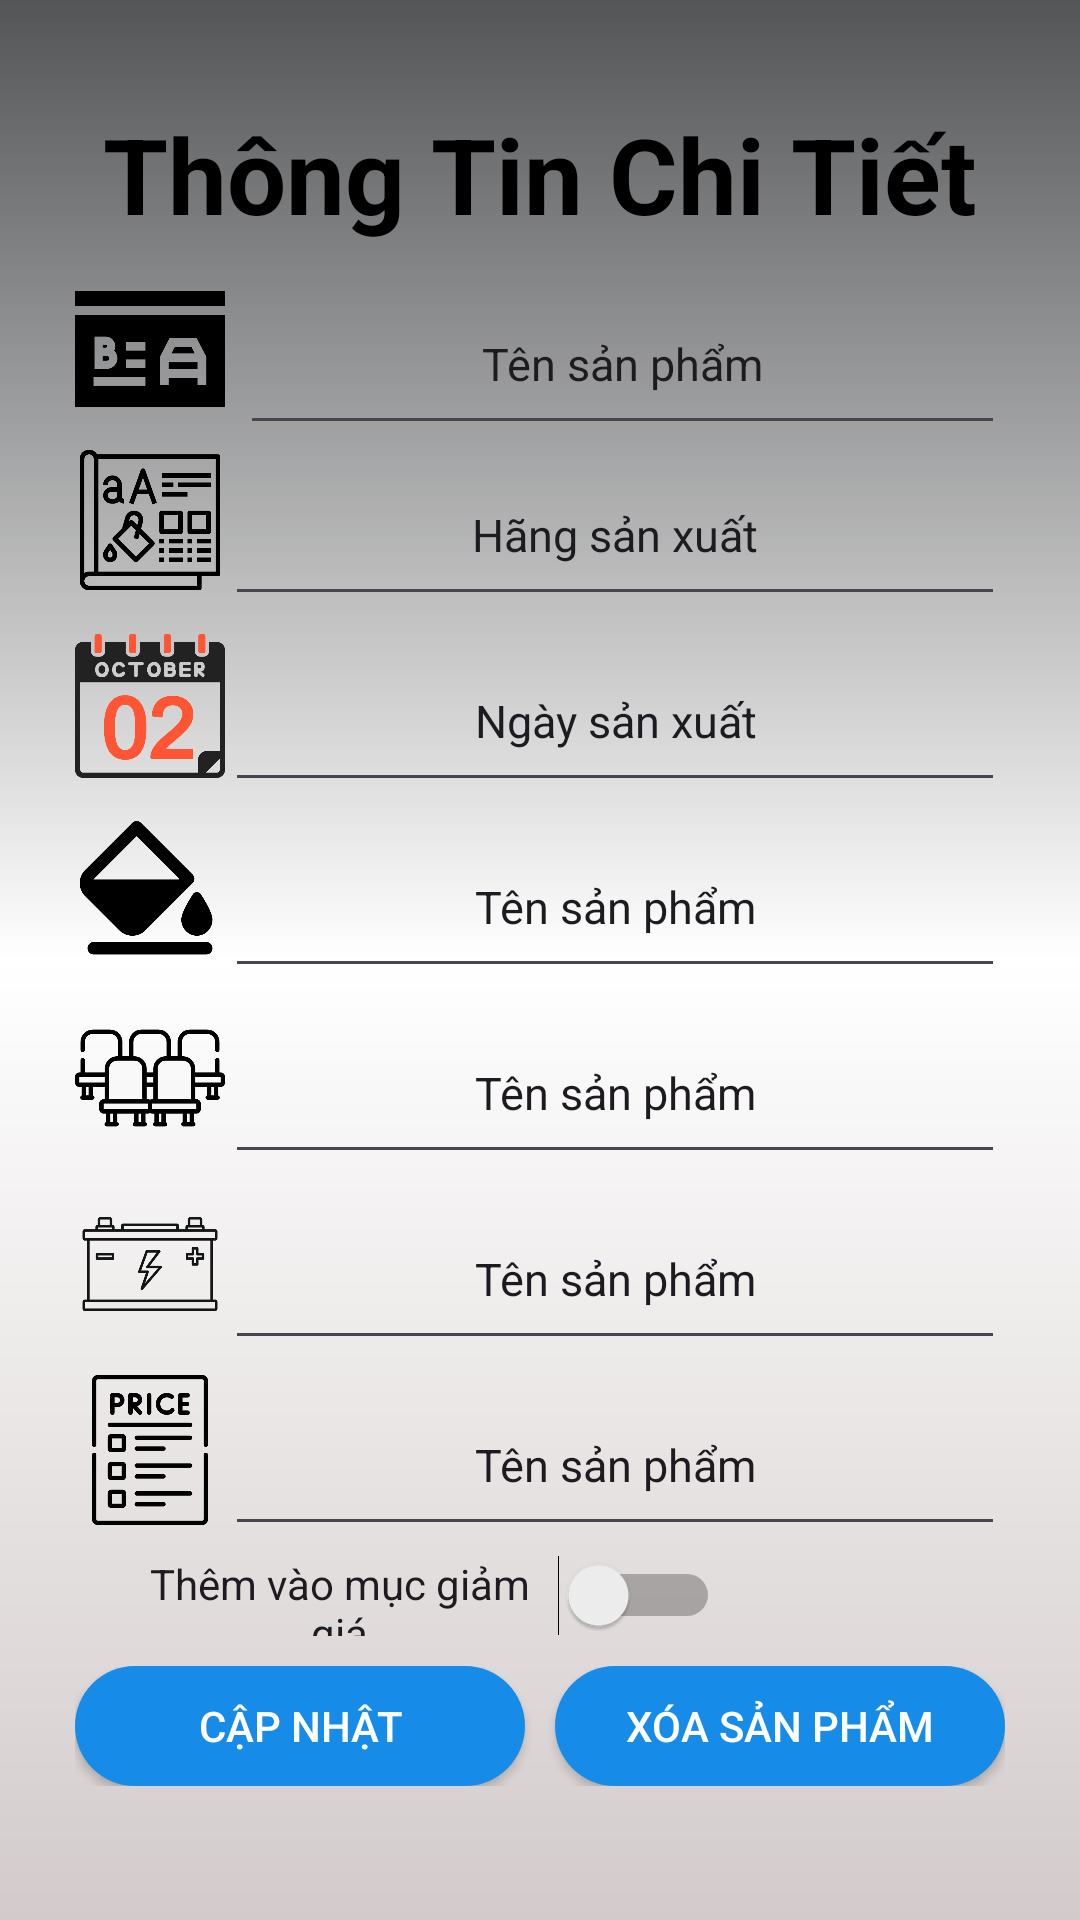

Icon bounding boxes for this 1080 x 1920 phone screenshot, format BBox(x1, y1, x2, y2):
capacity: BBox(82, 1217, 218, 1311)
date: BBox(75, 634, 225, 781)
name car: BBox(75, 291, 225, 424)
seat: BBox(75, 1029, 225, 1127)
